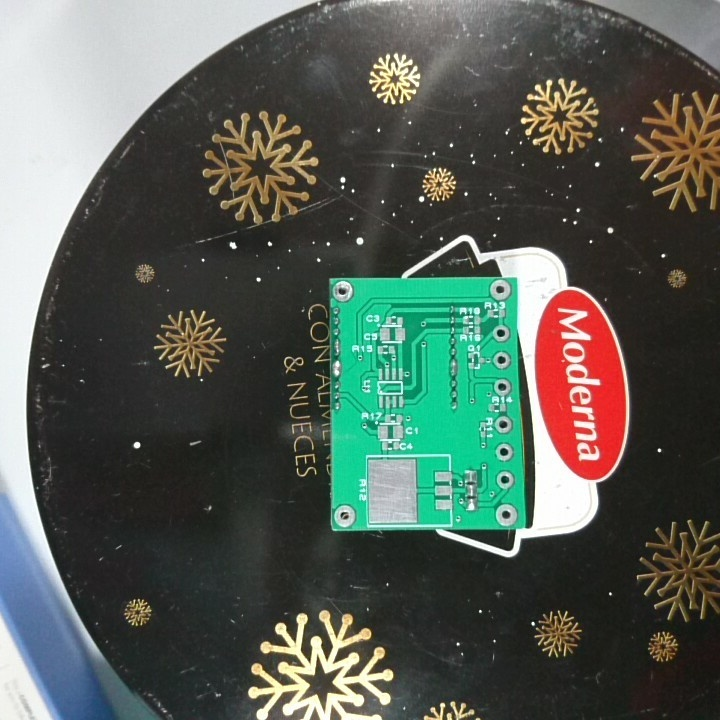F: (494, 501, 519, 526), (332, 503, 356, 528), (330, 280, 354, 302), (488, 280, 512, 301), (492, 413, 514, 435), (491, 375, 512, 398), (491, 350, 512, 371), (491, 323, 513, 343), (494, 442, 514, 463), (494, 469, 513, 488)
P: (448, 356, 459, 378), (330, 359, 342, 377), (331, 338, 343, 355)
